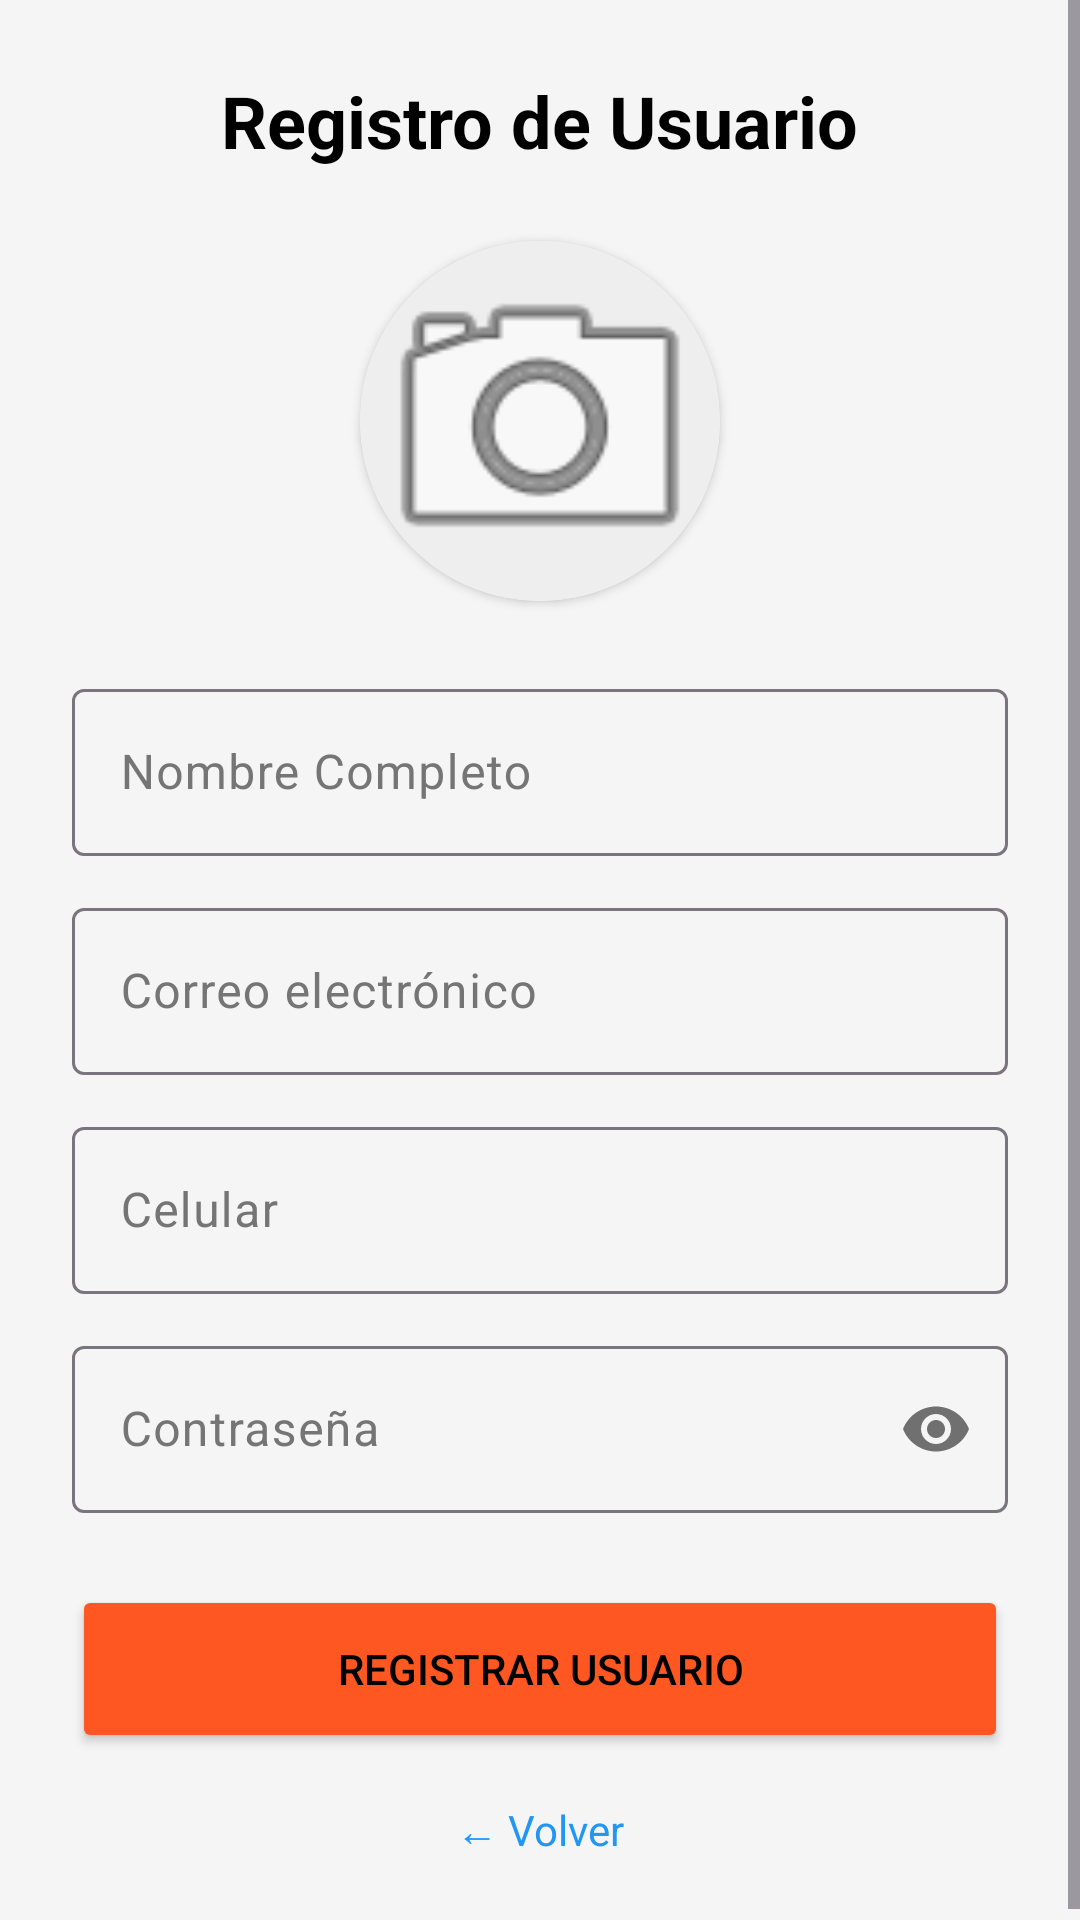

Where icons sit on this 1080 × 1920 app screen, as (x1, y1, x2, y2):
camera: (380, 304, 700, 601)
